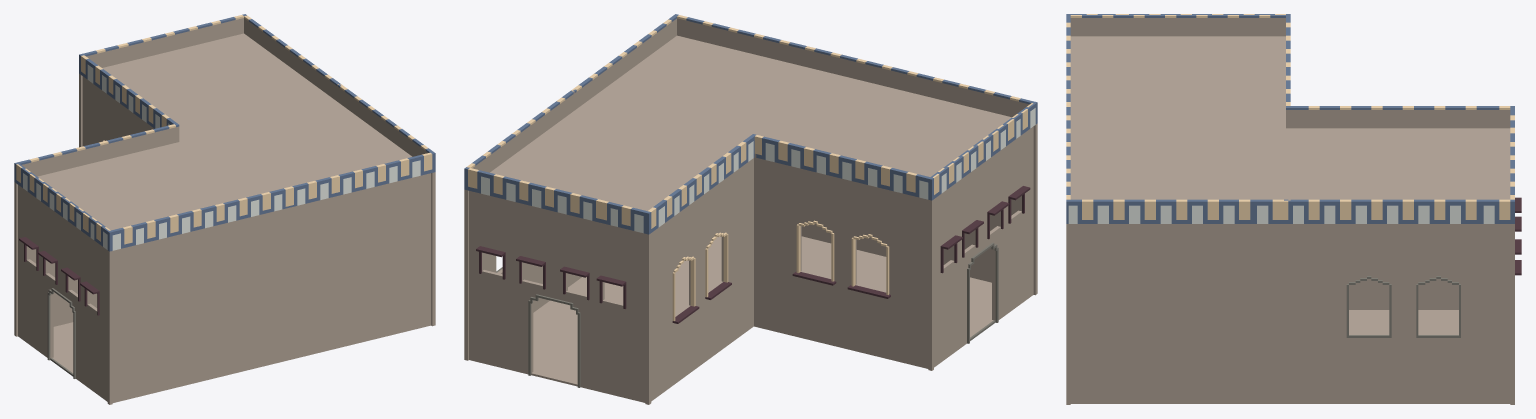
The model's file is GameJam-House5.obj.
The picture shows the model from 3 angles, left to right: view 1: azimuth 30°, elevation 25°; view 2: azimuth 150°, elevation 25°; view 3: azimuth 270°, elevation 25°; orthographic projection. The views are drawn at different scales.
Size of the model in its own units: 20.1 by 10 by 20.3.
